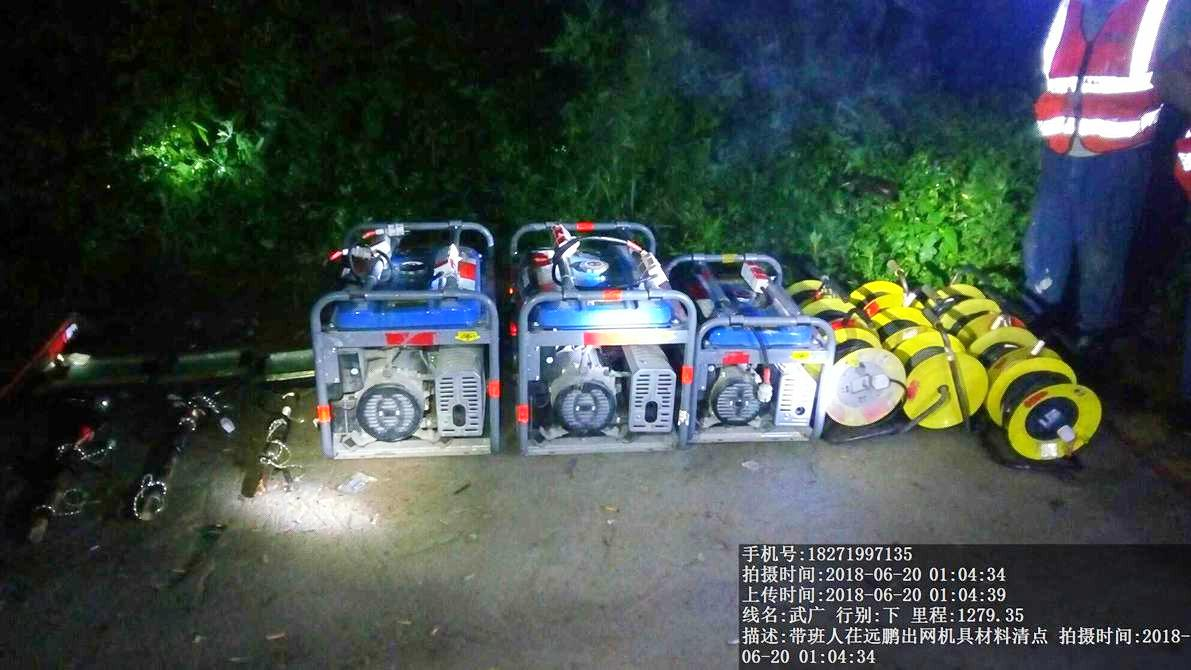DJ: (309, 221, 503, 464), (508, 220, 689, 457), (675, 248, 830, 449)
DX: (1001, 359, 1103, 463)
